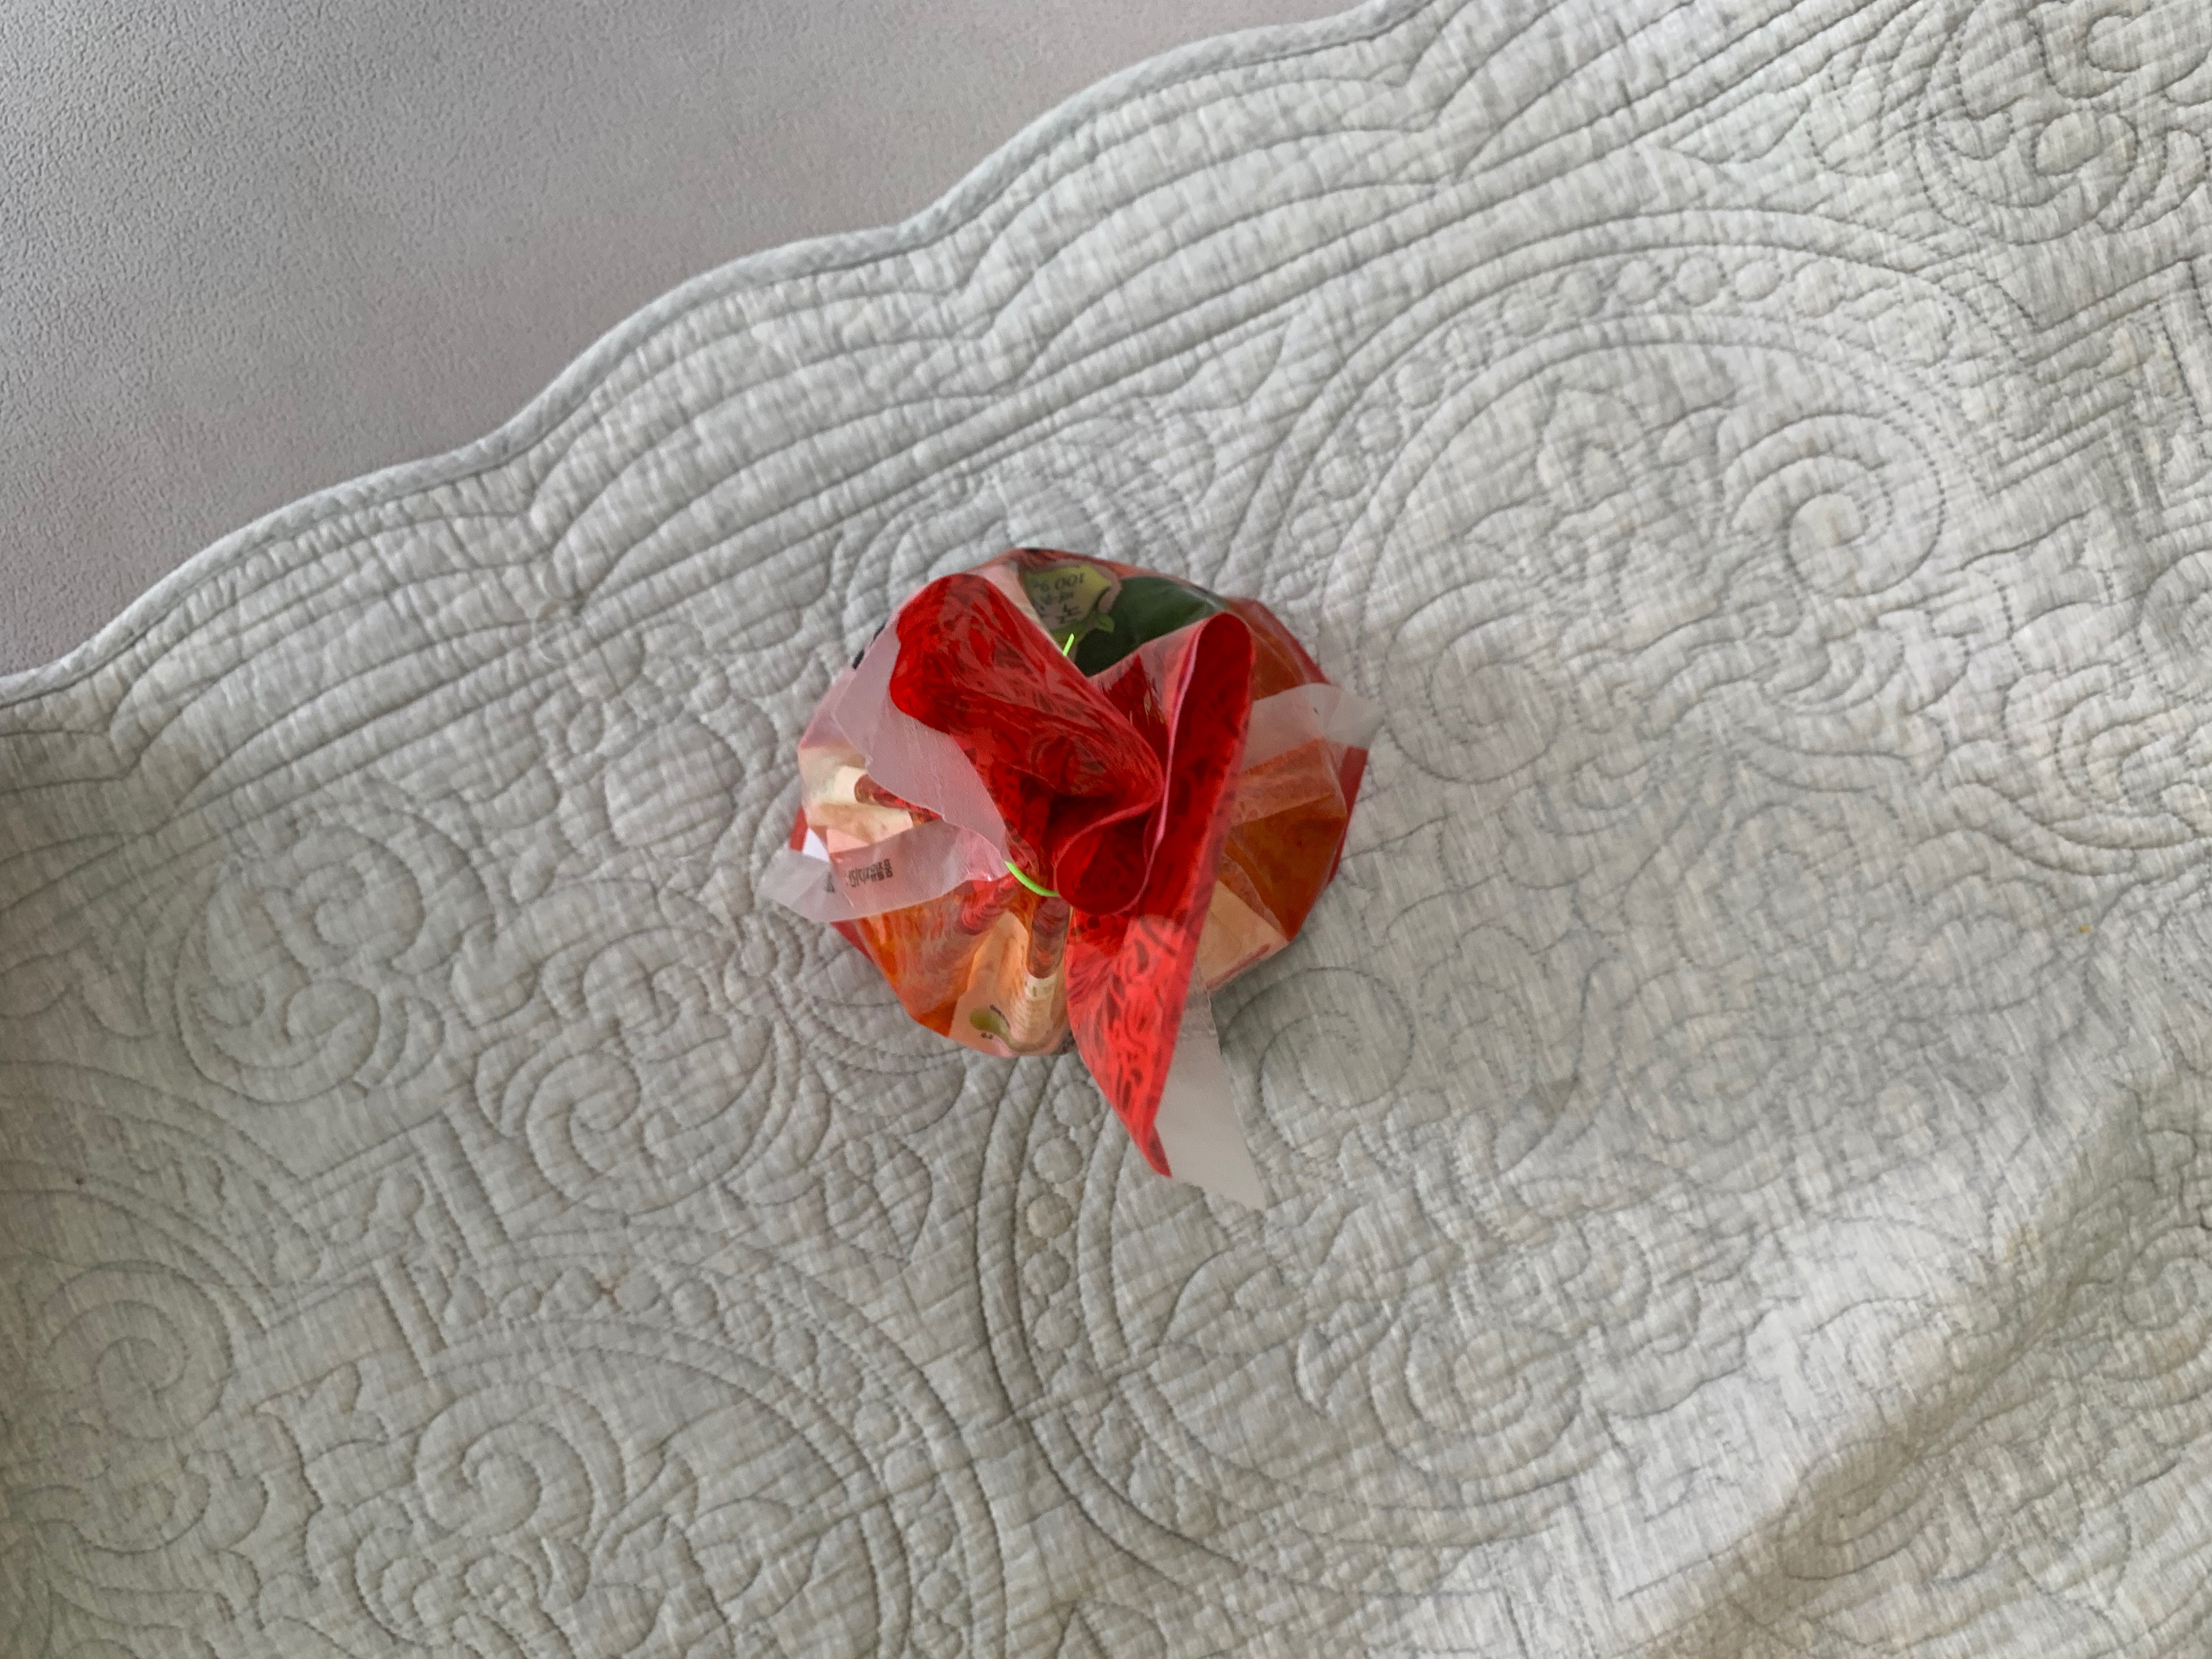kimchi: (791, 552, 1366, 1166)
